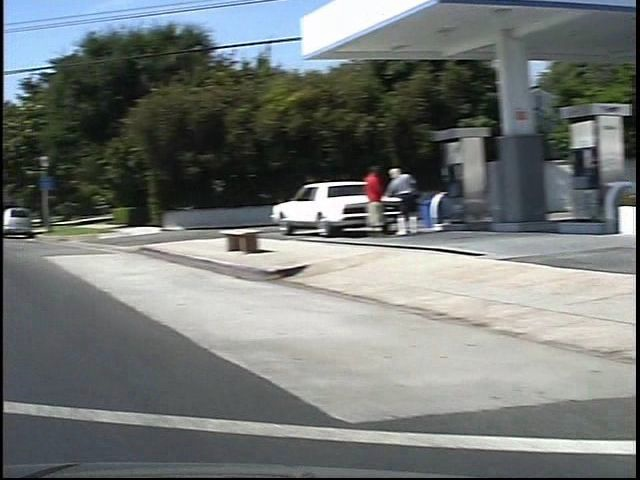person: (366, 165, 406, 243), (340, 161, 372, 242)
